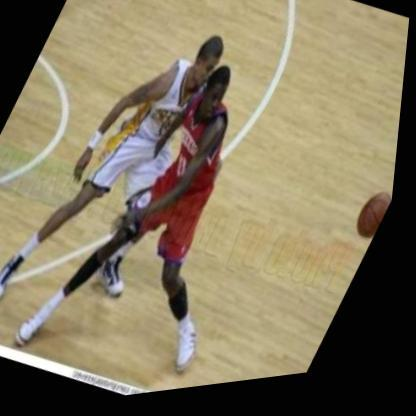basketball: (353, 194, 398, 253)
